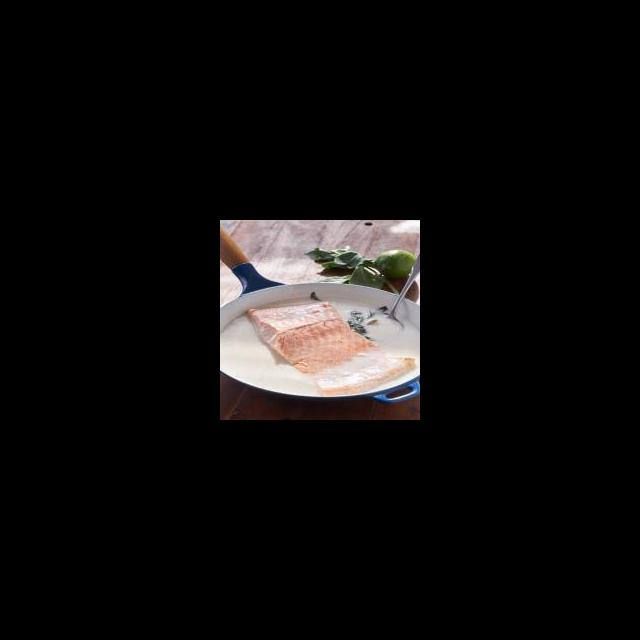ca hoi: (285, 337, 404, 392), (251, 299, 345, 356)
ca hoi sot pho mai kem: (221, 238, 420, 420)
pho mai: (358, 281, 420, 351), (243, 363, 300, 420), (220, 318, 253, 382)
